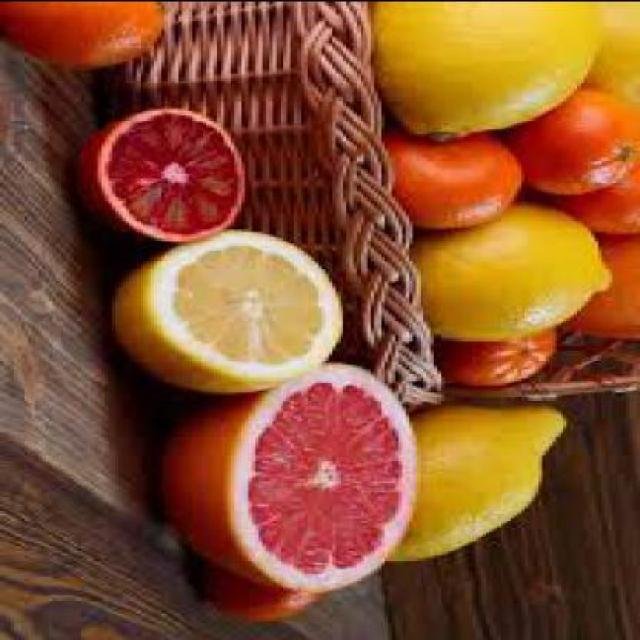BIODEGRADABLE: (162, 365, 423, 593), (108, 230, 350, 398), (374, 2, 606, 142), (416, 205, 616, 347), (392, 409, 570, 566), (77, 111, 252, 247), (392, 130, 528, 230), (517, 91, 638, 197), (4, 2, 171, 70), (188, 565, 328, 624), (434, 332, 563, 391), (577, 237, 638, 340), (588, 2, 638, 106), (566, 168, 639, 237)
